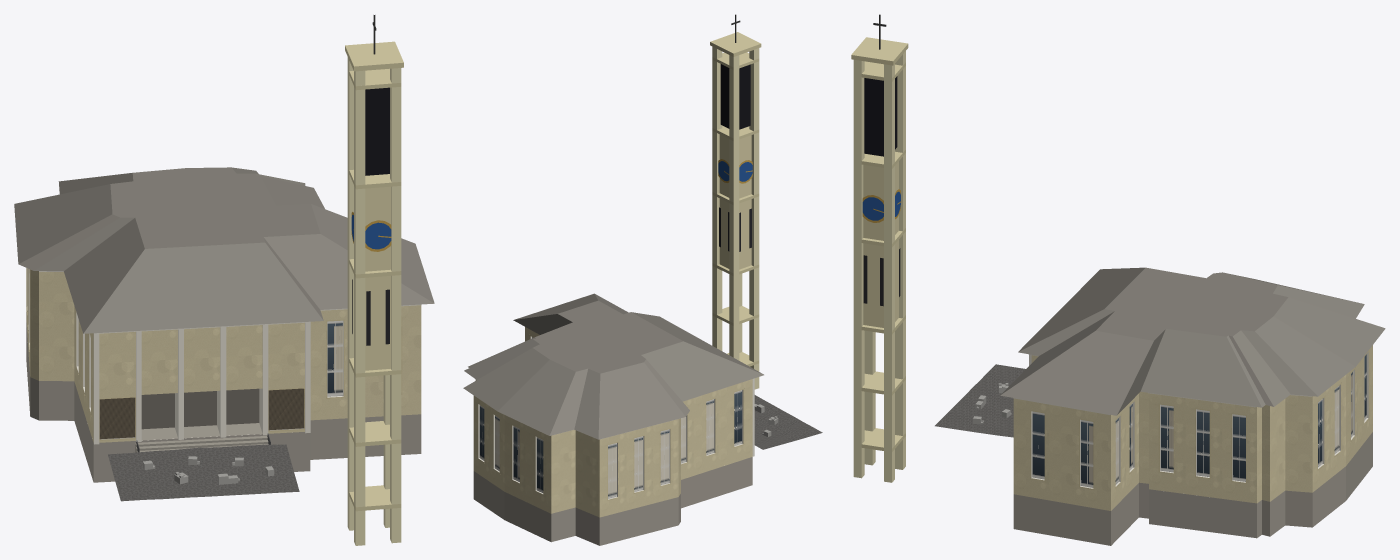
File: bullingerkirche.glb
The picture shows the model from 3 angles, left to right: view 1: azimuth 30°, elevation 25°; view 2: azimuth 150°, elevation 25°; view 3: azimuth 270°, elevation 25°; orthographic projection. The views are drawn at different scales.
Parts seen in each view (by area): view 1: bullingerkirche; view 2: bullingerkirche; view 3: bullingerkirche.
Part boxes in pixels (<box>): bullingerkirche: <box>14,15,434,545</box>; bullingerkirche: <box>463,14,822,545</box>; bullingerkirche: <box>851,14,1385,545</box>.
Bounding box in the file's own units: 38.38 × 53.02 × 55.61.
6 materials, 6 textured.
